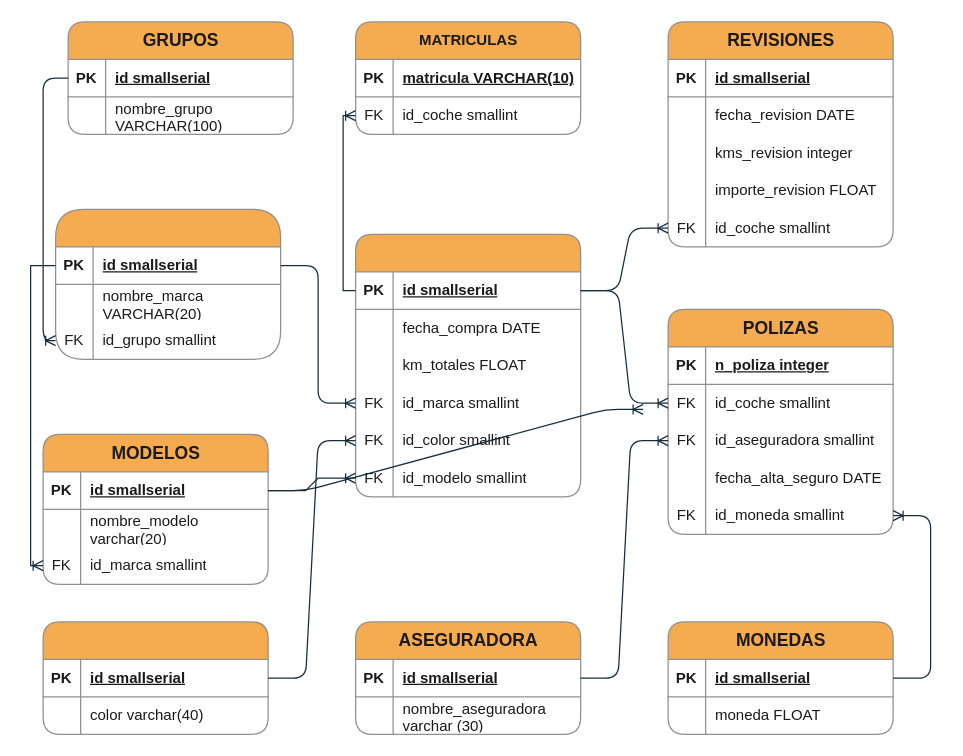
Image size: 963x756. Some labels were removed from this diagram. Here are the shapes that lost their labels. From the top down, the box of each, then its label:
(54, 208, 281, 359): MARCAS
(354, 233, 581, 497): COCHES
(42, 621, 268, 734): COLORES
